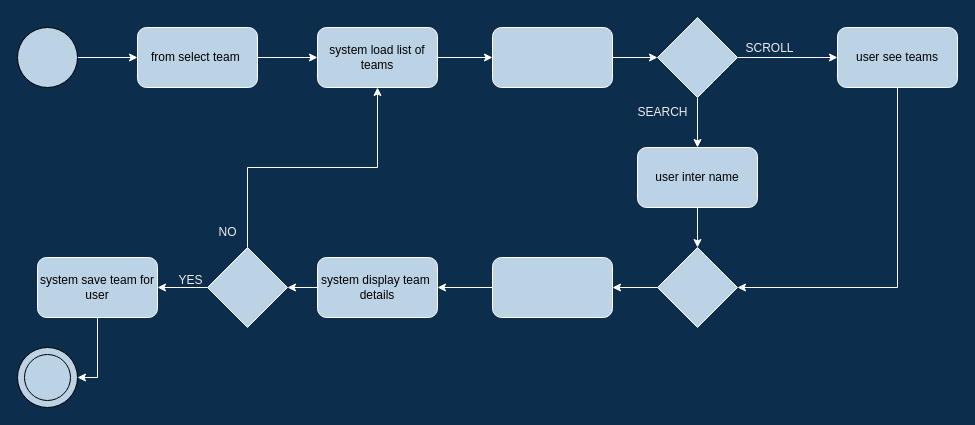
Image size: 975x425. Some labels were removed from this diagram. Here are the shapes that lost their labels. From the top down, the box of each, then its label:
(492, 26, 612, 88): user can search or scroll
(206, 246, 288, 328): confirm
(492, 256, 612, 318): user select team
